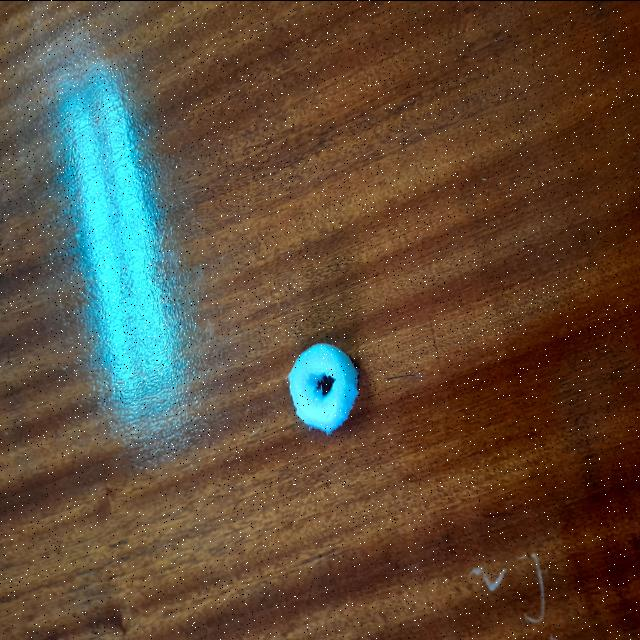wheel: (283, 338, 361, 434)
